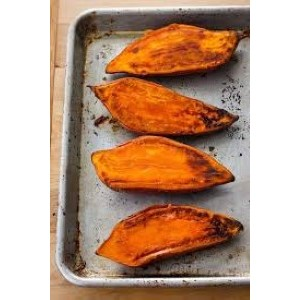sweet potato_brain food: (86, 143, 239, 195), (102, 209, 237, 264), (110, 25, 235, 80), (94, 93, 236, 133)
